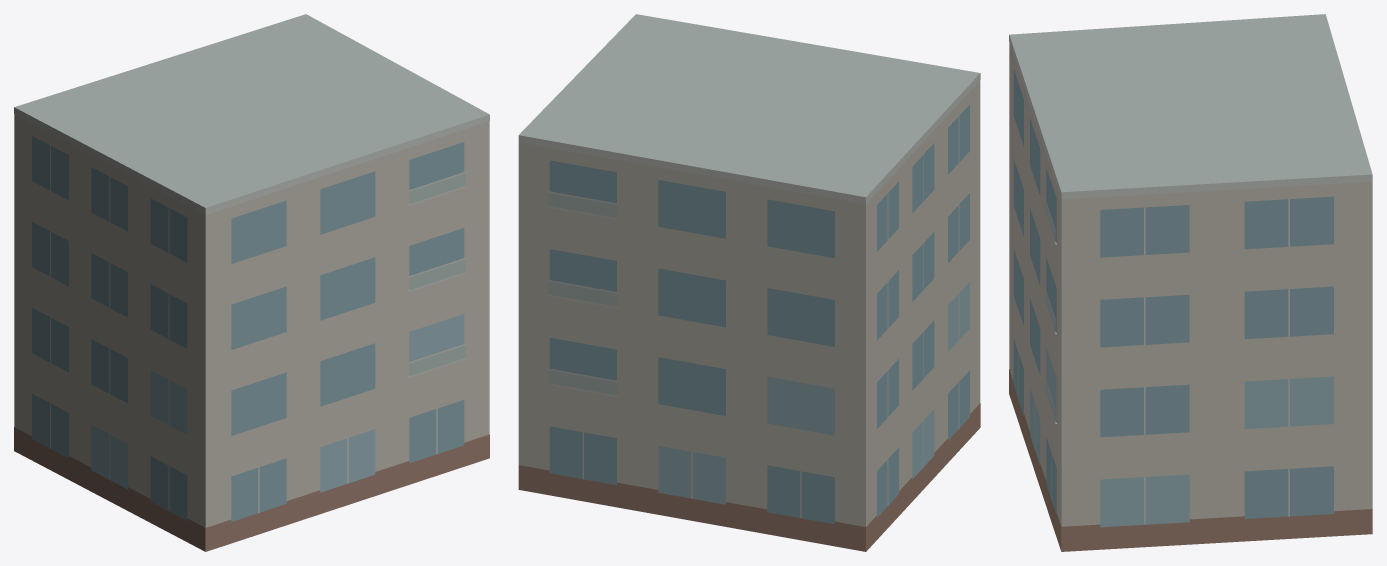
Rendered from survey-upis-32673176.glb.
The picture shows the model from 3 angles, left to right: view 1: azimuth 30°, elevation 25°; view 2: azimuth 150°, elevation 25°; view 3: azimuth 270°, elevation 25°; orthographic projection. The views are drawn at different scales.
Visible parts, largest first — view 1: survey-upis-32673176.tmp; view 2: survey-upis-32673176.tmp; view 3: survey-upis-32673176.tmp.
Boxes of the visible parts, <box> form: survey-upis-32673176.tmp: <box>14,14,489,551</box>; survey-upis-32673176.tmp: <box>518,14,980,551</box>; survey-upis-32673176.tmp: <box>1009,14,1372,551</box>.
Bounding box in the file's own units: 12.98 × 12.2 × 11.18.
